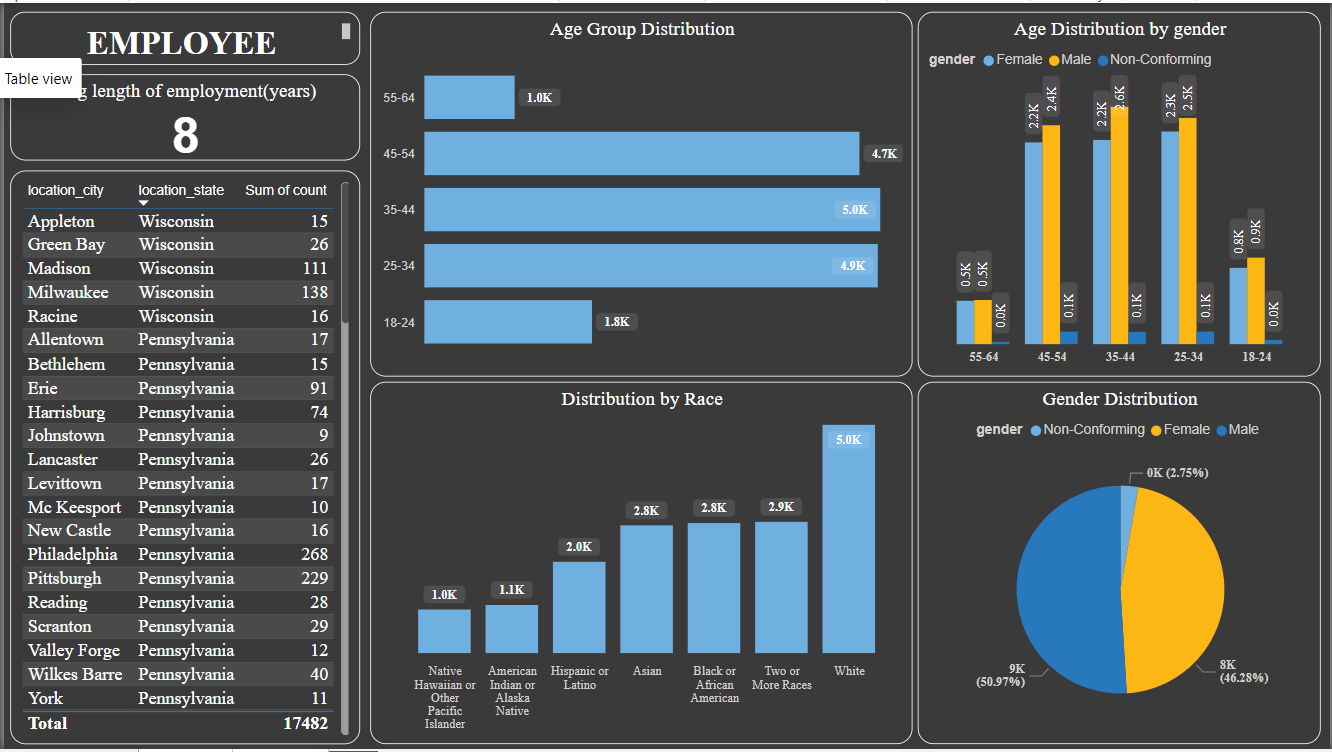

This screenshot's page, from the dashboard's own definition file:
{"tool":"powerbi","page":{"name":"Page 1","canvas":[1280,720],"ordinal":0},"visuals":[{"type":"card","title":"Avg length of employment(years)","fields":{"Values":["Sum(avg_employment.avg_length_of_emplyoment)"]},"box":[6.1,68.5,337.4,83.1],"z":1},{"type":"pieChart","title":"Gender Distribution","fields":{"Category":["gender.gender"],"Y":["Sum(gender.count)"]},"box":[881.4,365.5,388.7,349.6],"z":2},{"type":"columnChart","title":"Distribution by Race","fields":{"Category":["race.race"],"Y":["Sum(race.count)"]},"box":[353.3,365.5,523.2,349.6],"z":5},{"type":"clusteredBarChart","title":"Age Group Distribution","fields":{"Category":["age_group.age_group"],"Y":["Sum(age_group.count)"]},"box":[353.3,8.6,523.2,352.1],"z":6},{"type":"clusteredColumnChart","title":"Age Distribution by gender ","fields":{"Category":["age_group_gender.age_group"],"Series":["age_group_gender.gender"],"Y":["Sum(age_group_gender.count)"]},"box":[881.4,8.6,388.7,352.1],"z":7},{"type":"textbox","box":[6.1,8.6,337.4,51.3],"z":8},{"type":"tableEx","fields":{"Values":["city_state_emp.location_city","city_state_emp.location_state","Sum(city_state_emp.count)"]},"box":[6.1,161.4,337.4,553.8],"z":9}]}

Visuals, with their boxes in screenshot pixels (x1, y1, x2, y2):
"Avg length of employment(years)" card: 0 62 341 151
"Gender Distribution" pieChart: 913 378 1327 750
"Distribution by Race" columnChart: 352 378 908 750
"Age Group Distribution" clusteredBarChart: 352 0 908 373
"Age Distribution by gender " clusteredColumnChart: 913 0 1327 373
textbox: 0 0 341 53
tableEx - city_state_emp.location_city x city_state_emp.location_state: 0 161 341 751
